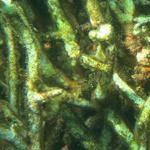dead: (3, 2, 142, 146)
